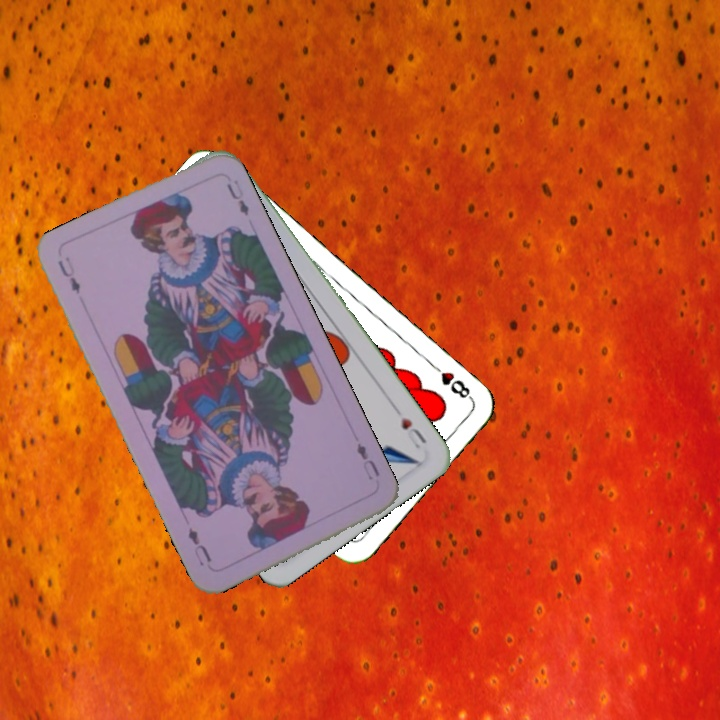EU: (352, 438, 383, 483), (53, 252, 83, 297)
H8: (426, 359, 475, 403)
HU: (396, 413, 429, 452)
